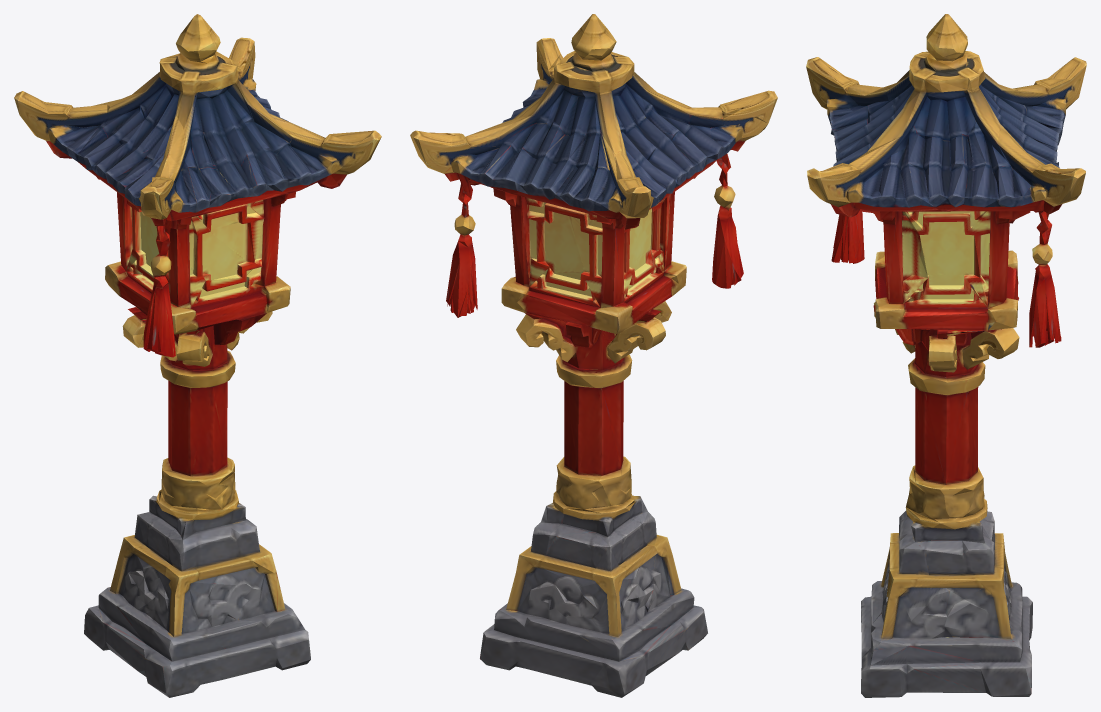
The model's file is lantern.glb.
3 views of the same model, side by side, from view 1: azimuth 30°, elevation 25°; view 2: azimuth 150°, elevation 25°; view 3: azimuth 270°, elevation 25° (orthographic).
Visible parts, largest first — view 1: output_unwrapped; view 2: output_unwrapped; view 3: output_unwrapped.
Part boxes in pixels (left/top/right/bottom): output_unwrapped: left=14, top=14, right=381, bottom=697; output_unwrapped: left=410, top=14, right=777, bottom=697; output_unwrapped: left=806, top=14, right=1086, bottom=697.
Bounding box in the file's own units: 0.7454 × 1.9 × 0.7452.
Materials: 1 (1 with a texture image).
